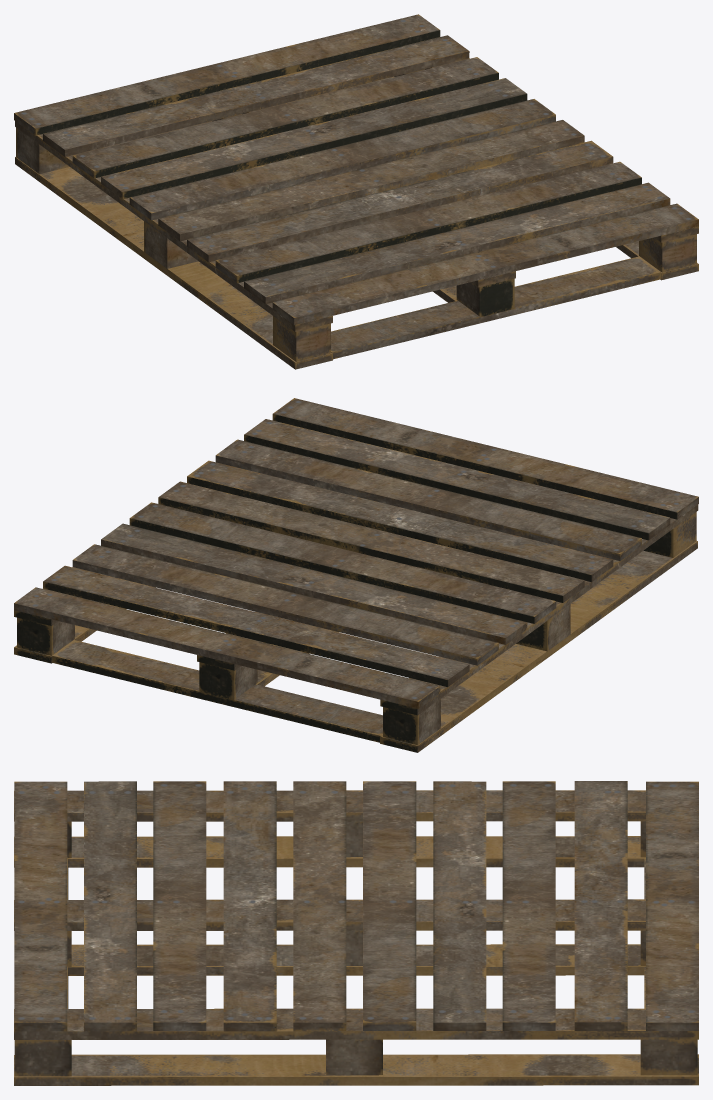
Rendered from Prop_WoodPallet.fbx.
The picture shows the model from 3 angles, top to bottom: view 1: azimuth 30°, elevation 25°; view 2: azimuth 150°, elevation 25°; view 3: azimuth 270°, elevation 25°; orthographic projection. The views are drawn at different scales.
Parts seen in each view (by area): view 1: Prop_WoodPallet; view 2: Prop_WoodPallet; view 3: Prop_WoodPallet.
Part boxes in pixels (<box>): Prop_WoodPallet: <box>14,14,698,369</box>; Prop_WoodPallet: <box>14,398,698,752</box>; Prop_WoodPallet: <box>14,781,698,1085</box>.
Size of the model in its own units: 66.44 by 8.17 by 79.73.
